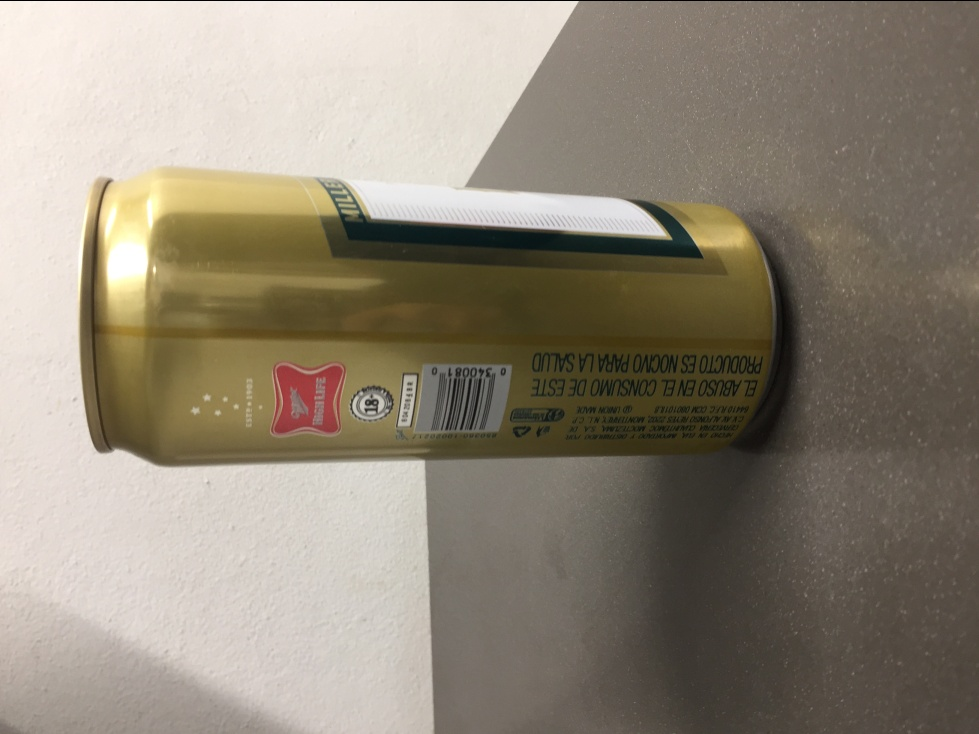miller: (74, 159, 780, 470)
